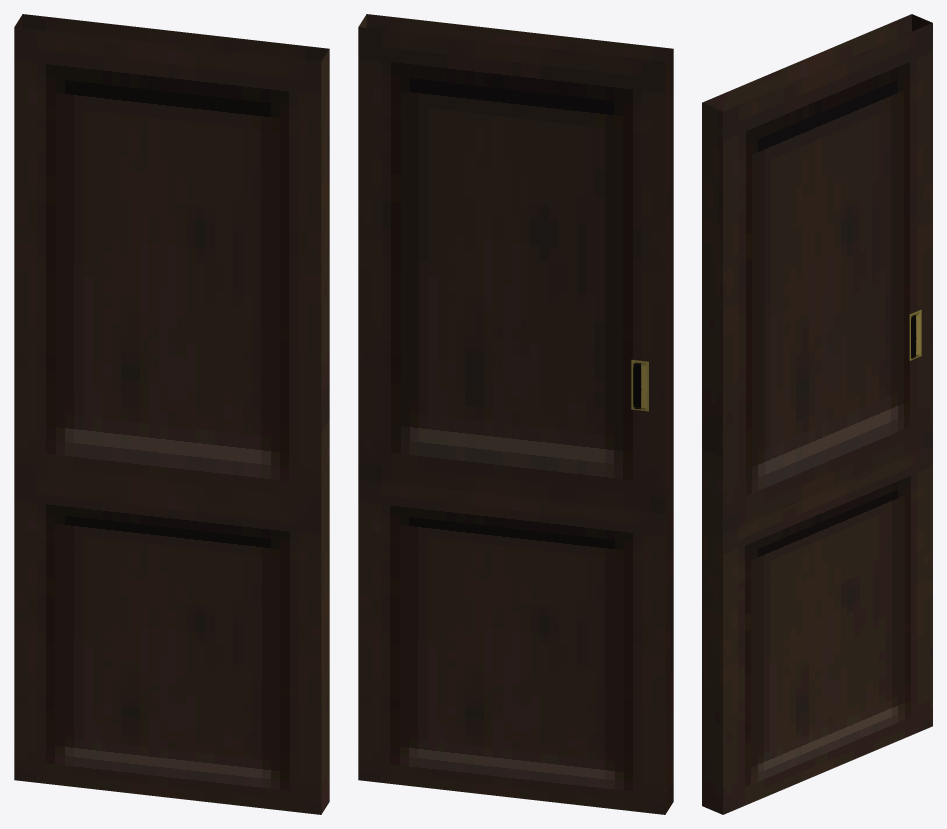
The model's file is primary_134.glb.
3 renders of one model, left to right at view 1: azimuth 30°, elevation 25°; view 2: azimuth 210°, elevation 25°; view 3: azimuth 270°, elevation 25°, orthographic. The views are drawn at different scales.
Visible parts, largest first — view 1: Object; view 2: Object; view 3: Object.
Boxes of the visible parts, left/top/right/bottom form: Object: left=14, top=14, right=329, bottom=814; Object: left=358, top=14, right=673, bottom=814; Object: left=702, top=14, right=932, bottom=814.
Bounding box in the file's own units: 0.8284 × 2.79 × 0.8284.
7 materials, 7 textured.
